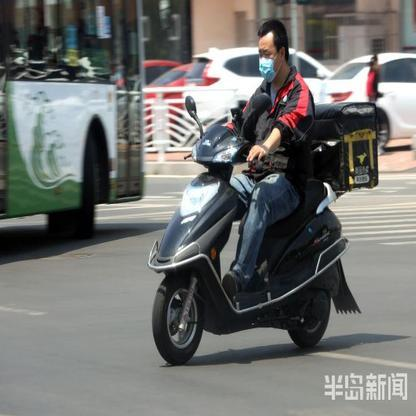target: (145, 18, 379, 365)
